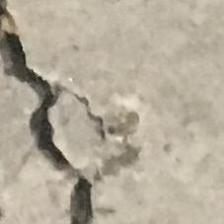Crack: (0, 8, 147, 224)
